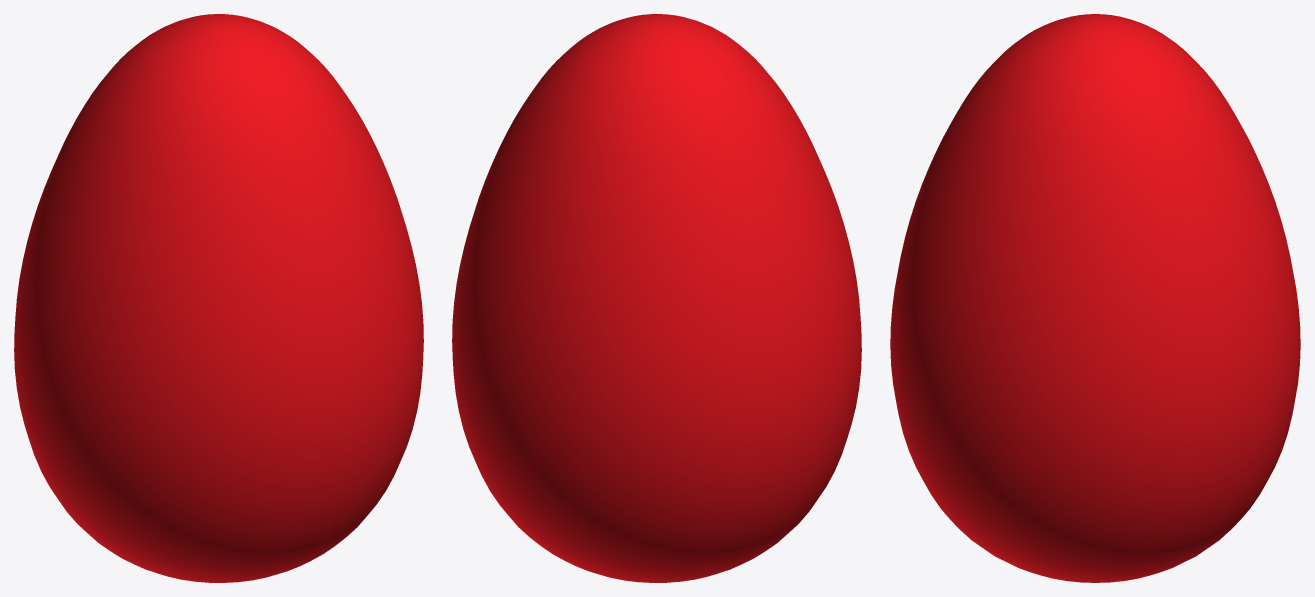
The model's file is egg_0.glb.
3 renders of one model, left to right at view 1: azimuth 30°, elevation 25°; view 2: azimuth 150°, elevation 25°; view 3: azimuth 270°, elevation 25°, orthographic.
Parts seen in each view (by area): view 1: node_id91; view 2: node_id91; view 3: node_id91.
Boxes of the visible parts, bbox=[...] form: node_id91: bbox=[14, 14, 423, 582]; node_id91: bbox=[452, 14, 861, 582]; node_id91: bbox=[890, 14, 1300, 582].
Size of the model in its own units: 0.2417 by 0.3508 by 0.2417.
1 material, 1 textured.
